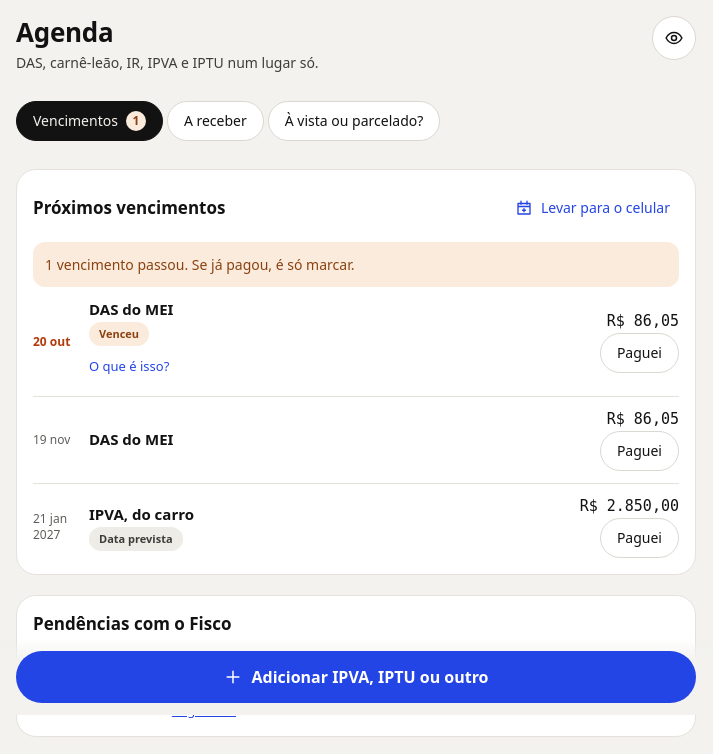
Test case: Agenda › lista vencimentos, atrasos, créditos e pendências; a dica aparece uma vez por tipo
The width and height of the screenshot is (713, 754).
Expected: the text "1 vencimento passou. Se já pagou, é só marcar." is shown, [33, 242, 679, 287]
Expected: the tab "Vencimentos 1" is shown, [16, 101, 163, 141]
Click the tab "A receber": (215, 121) [167, 101, 264, 141]
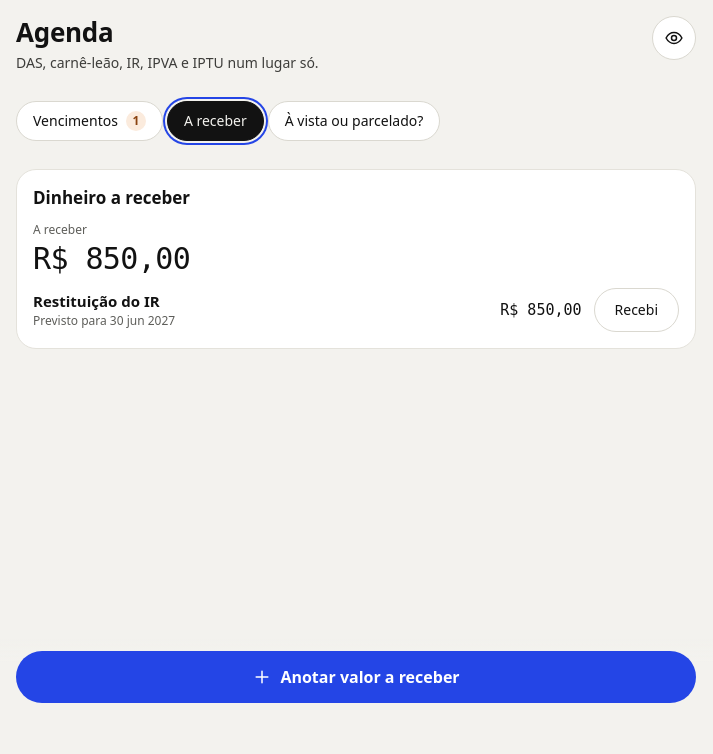
Now the text "R$ 850,00" is shown 2 times, box [33, 241, 190, 276]; [500, 300, 582, 320]
